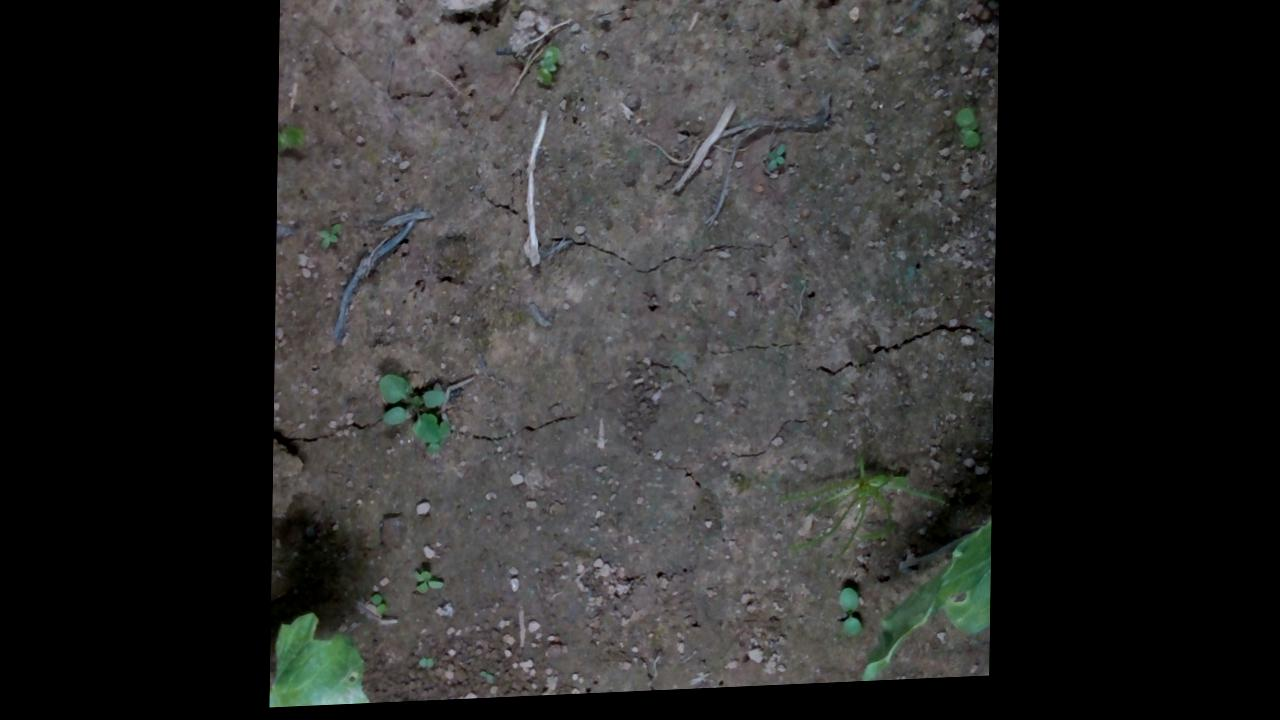weed: (419, 661, 436, 674)
